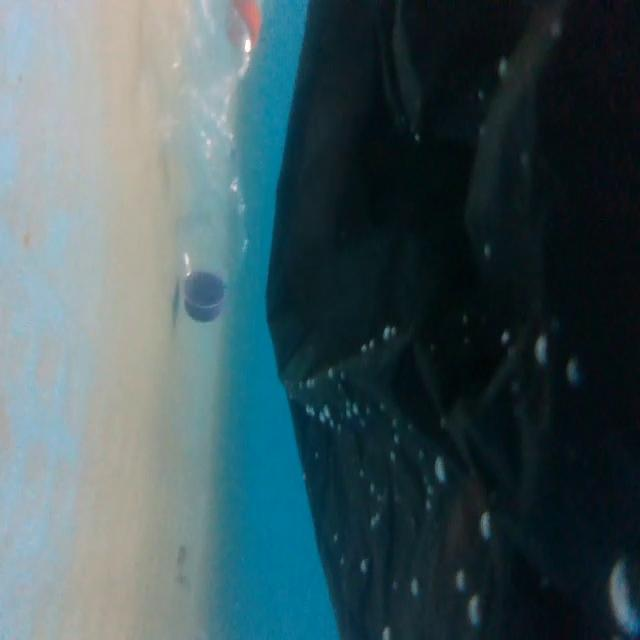plastic bags: (275, 0, 640, 640)
plastic bottle: (141, 3, 260, 330)
